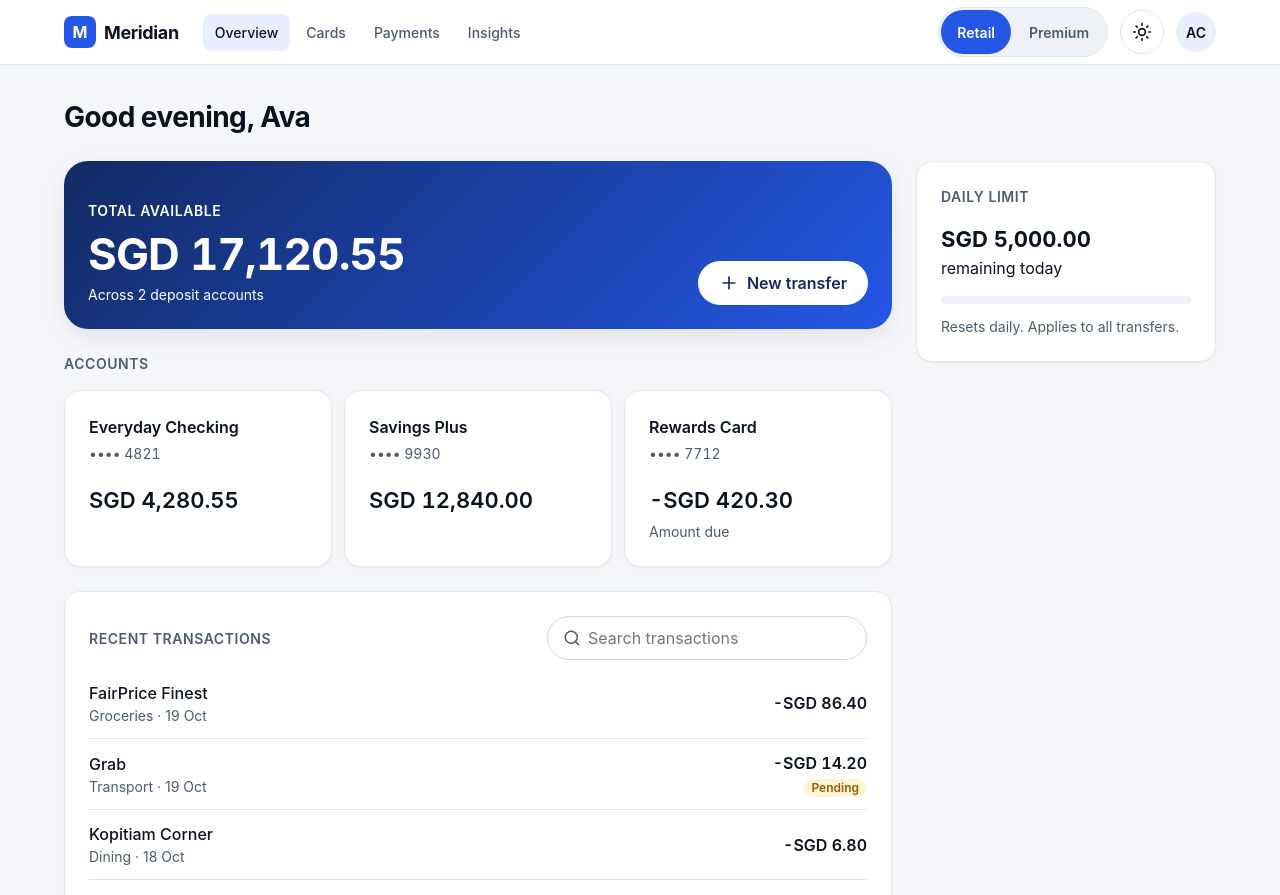
Test: transfer › stays on review with the data kept when sending fails
This screenshot has width=1280, height=895.
Click the button "New transfer" at (783, 283), box [698,261,868,305]
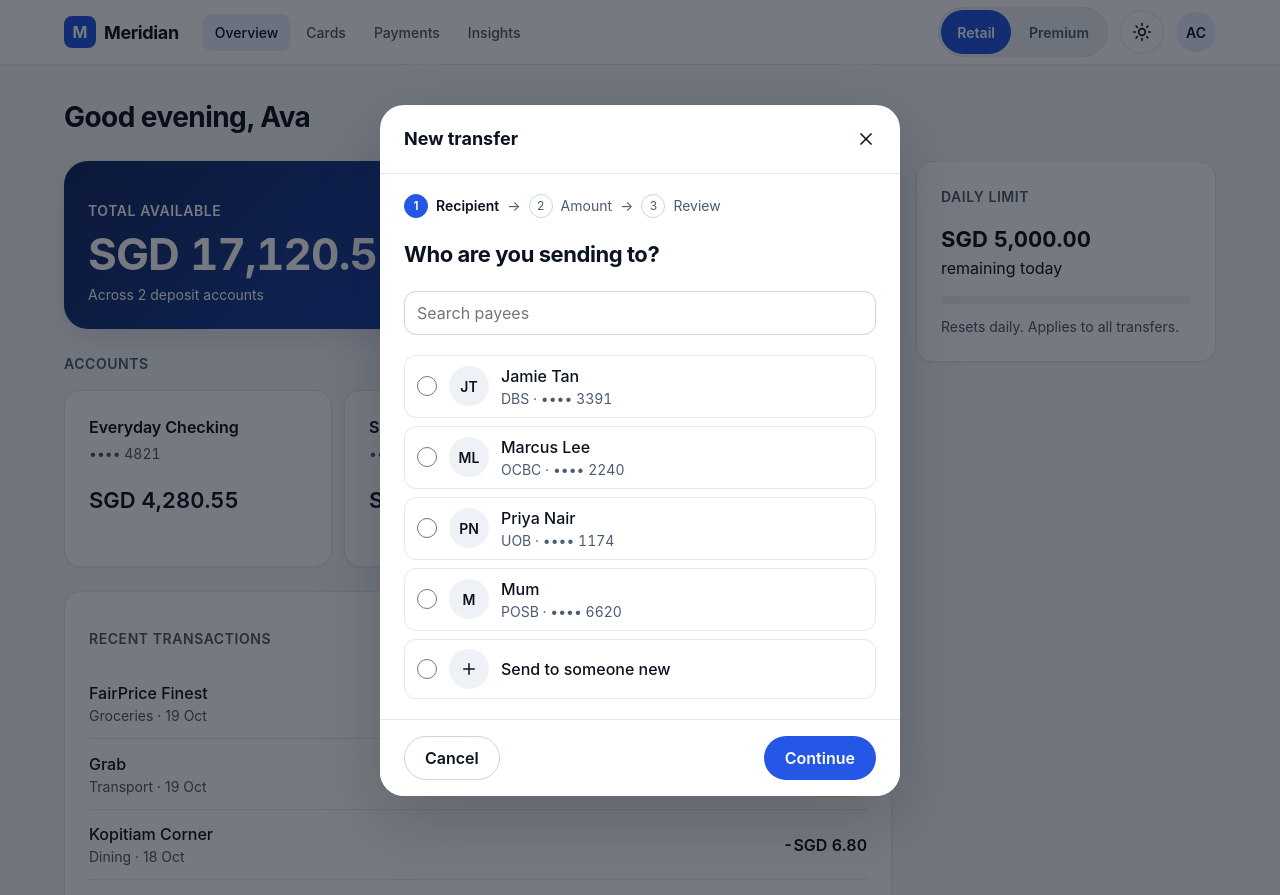
Click the radio button labelled "JT Jamie Tan DBS · •••• 3391" at (427, 386), box [417,376,437,396]
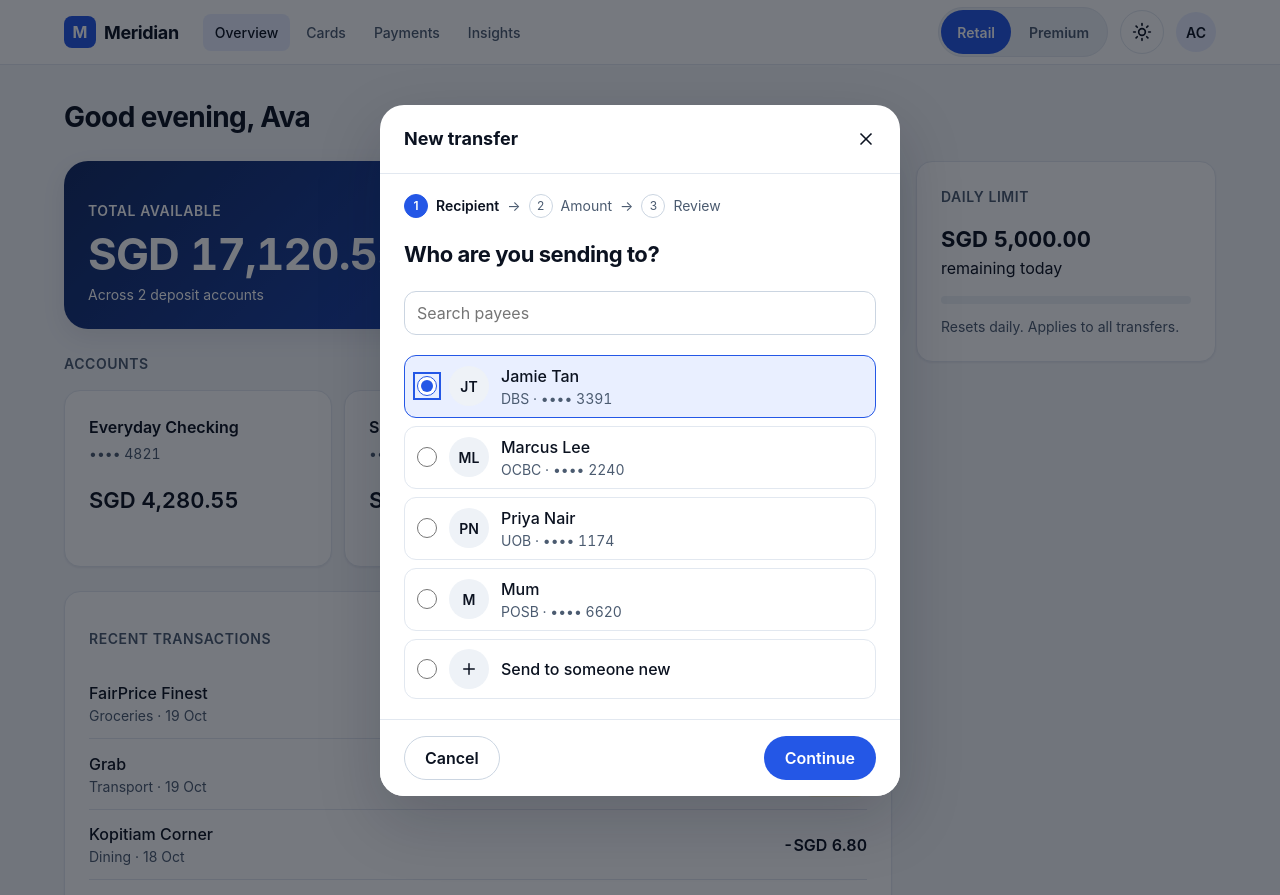
Click the button "Continue" at (820, 758), box [764,736,876,780]
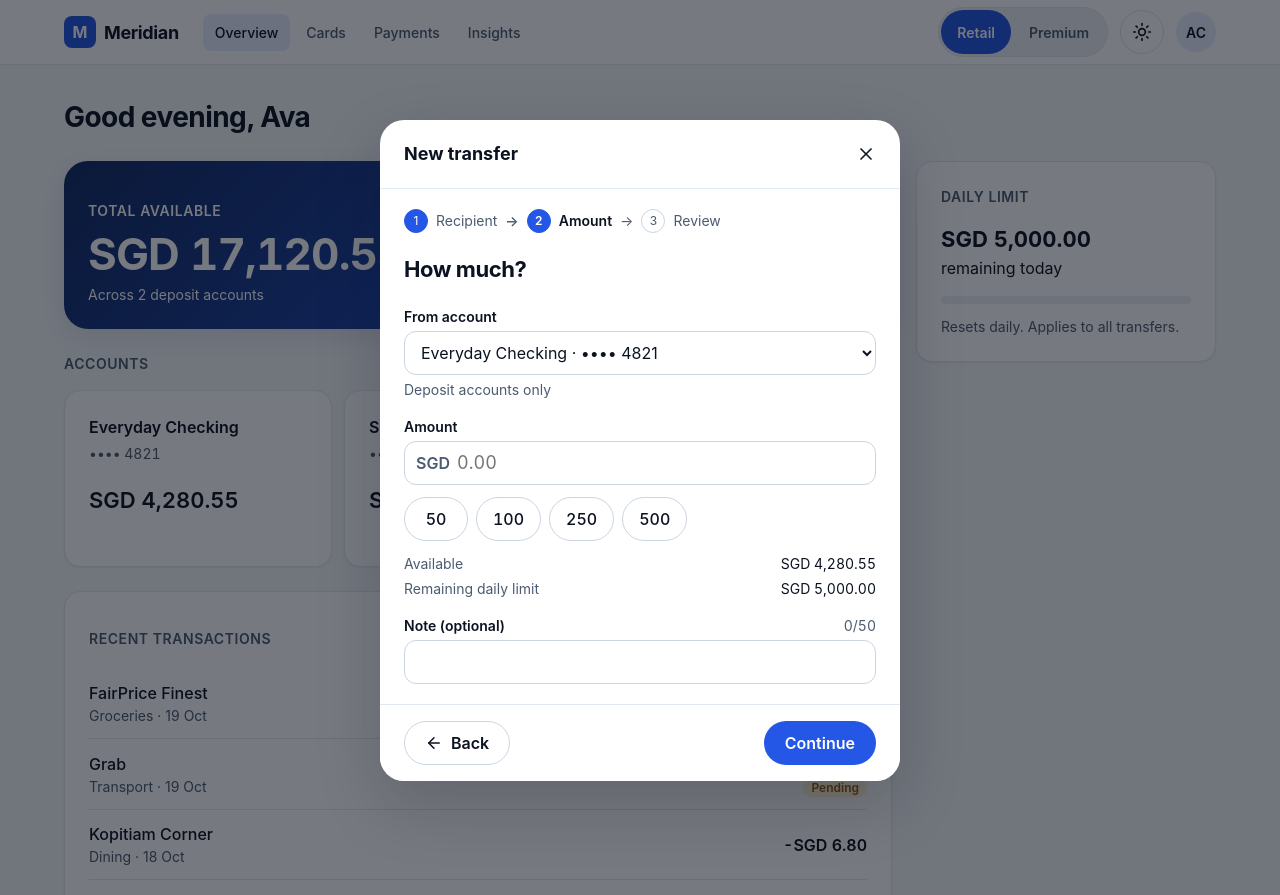
Expected: the heading "How much?" is shown, [404,256,526,282]
Type "50" into the field labelled "Amount" at (640, 462), box [404,440,876,484]
Type "Lunch #fail" into the field labelled "Note (optional)" at (640, 662), box [404,640,876,684]
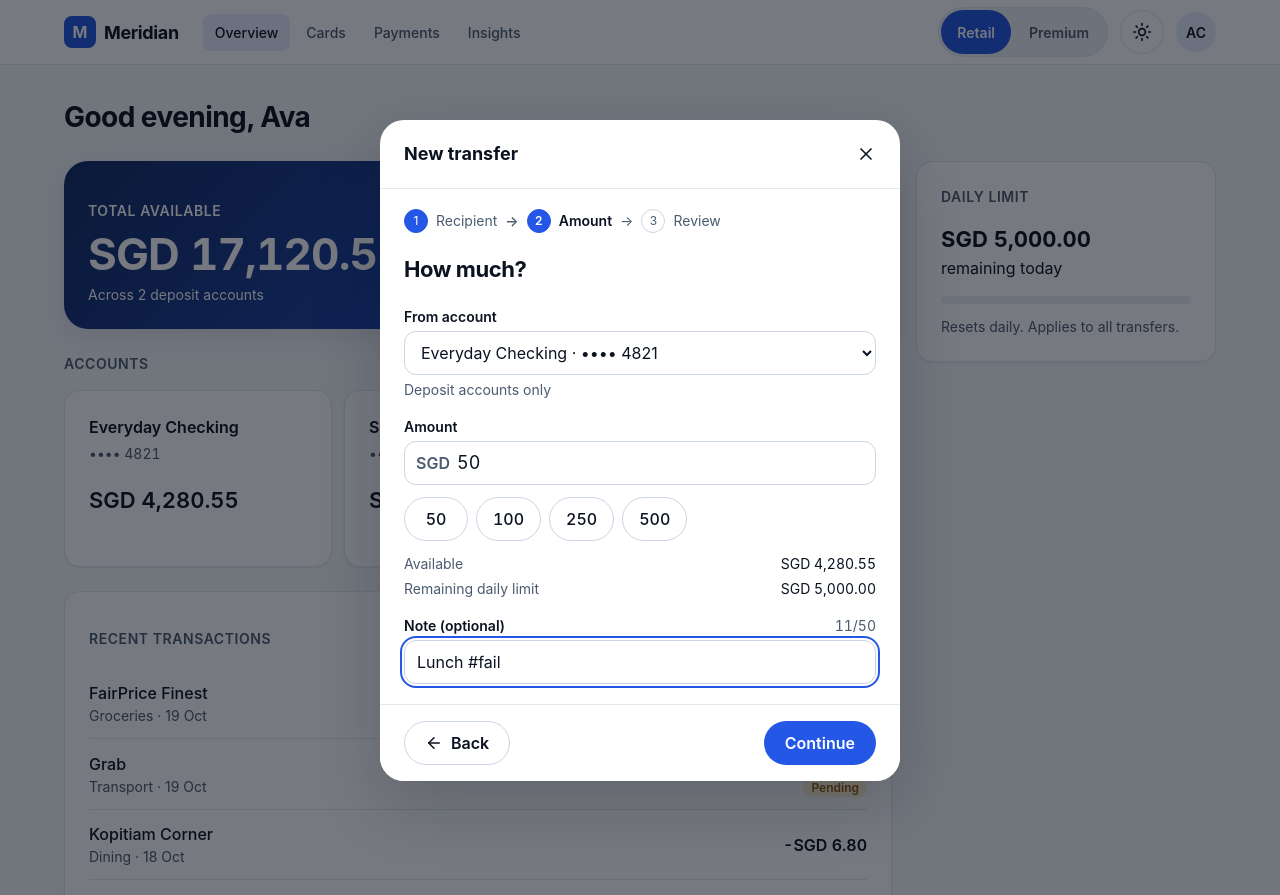
Click the button "Continue" at (820, 742), box [764,720,876,764]
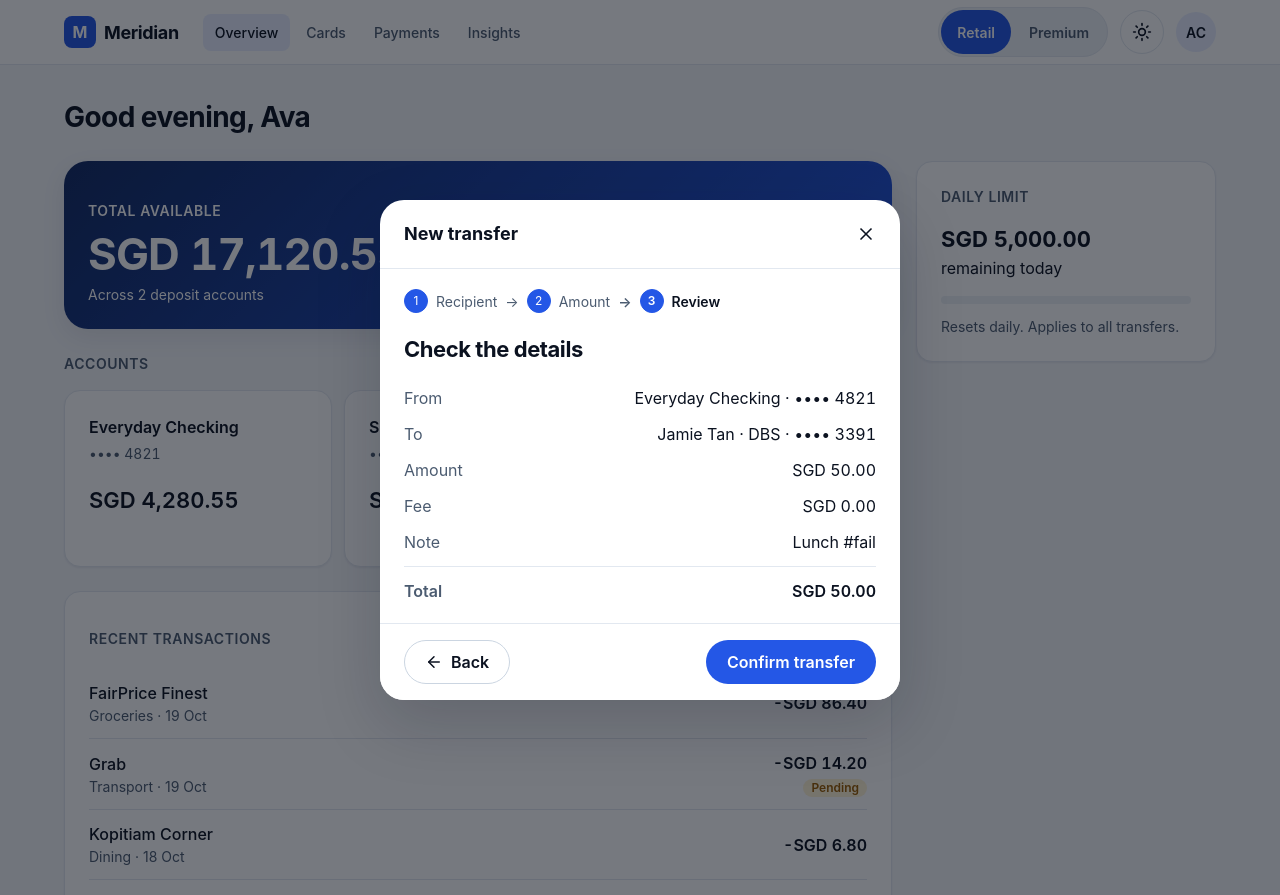
Click the button "Confirm transfer" at (791, 662), box [706,640,876,684]
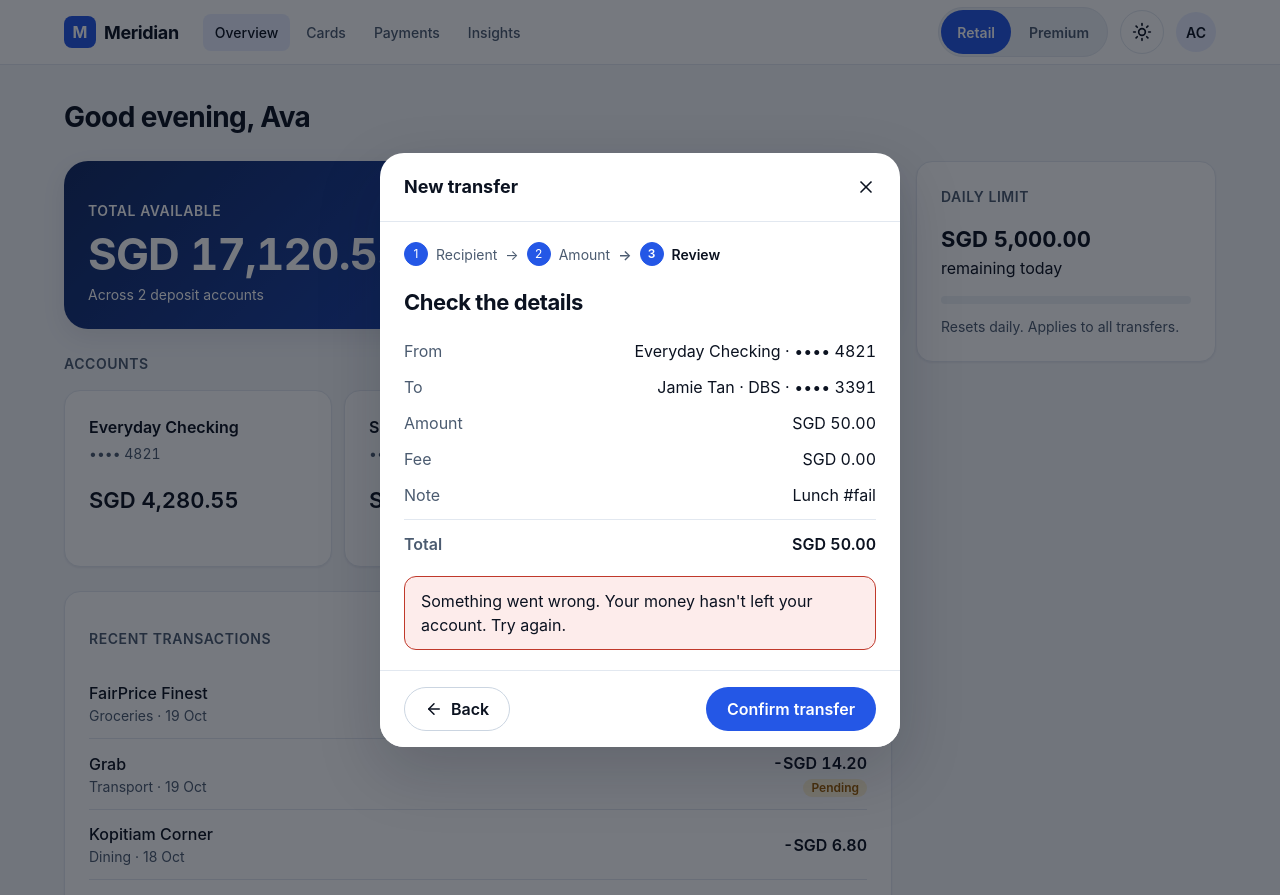
Expected: the heading "Check the details" is shown, [404,289,583,315]
Expected: the text "Lunch #fail" is shown, [792,483,876,507]
Expected: the message reads "Something went wrong. Your money hasn't left your account. Try again.", [421,591,812,635]
